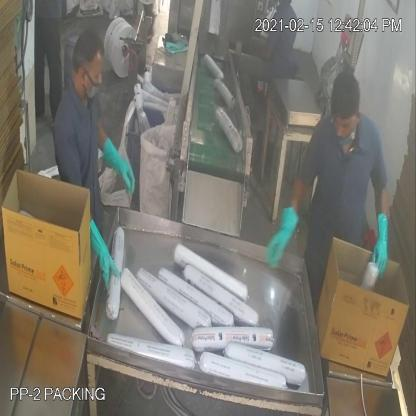glove: (83, 209, 122, 295), (259, 202, 303, 276), (98, 129, 136, 204), (368, 203, 393, 285)
